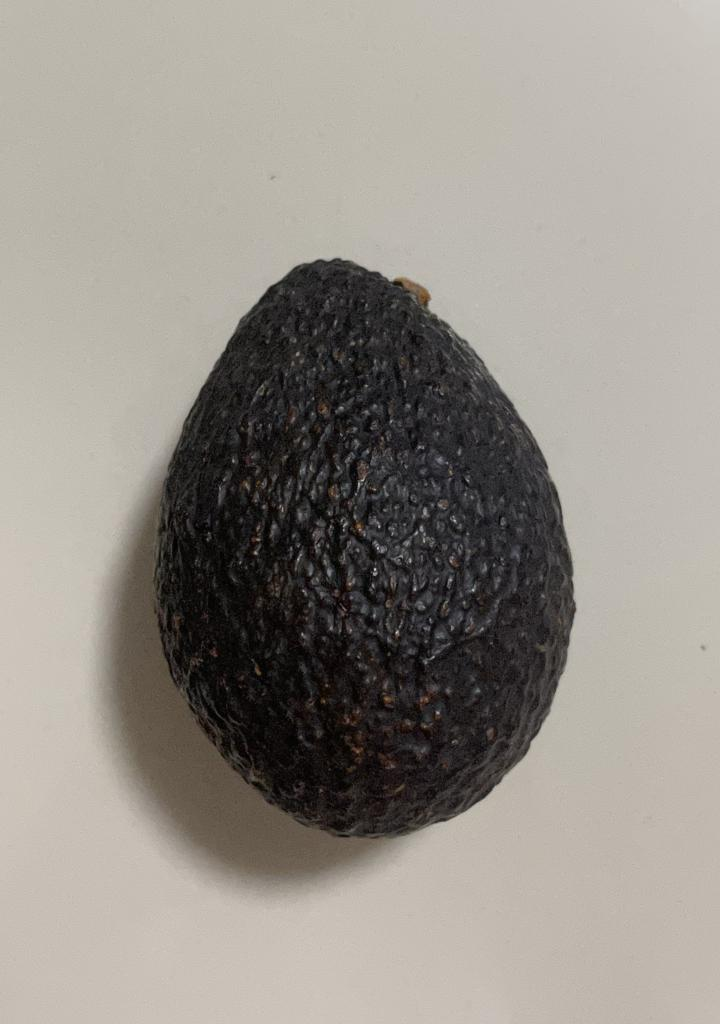Level3: (140, 241, 586, 852)
